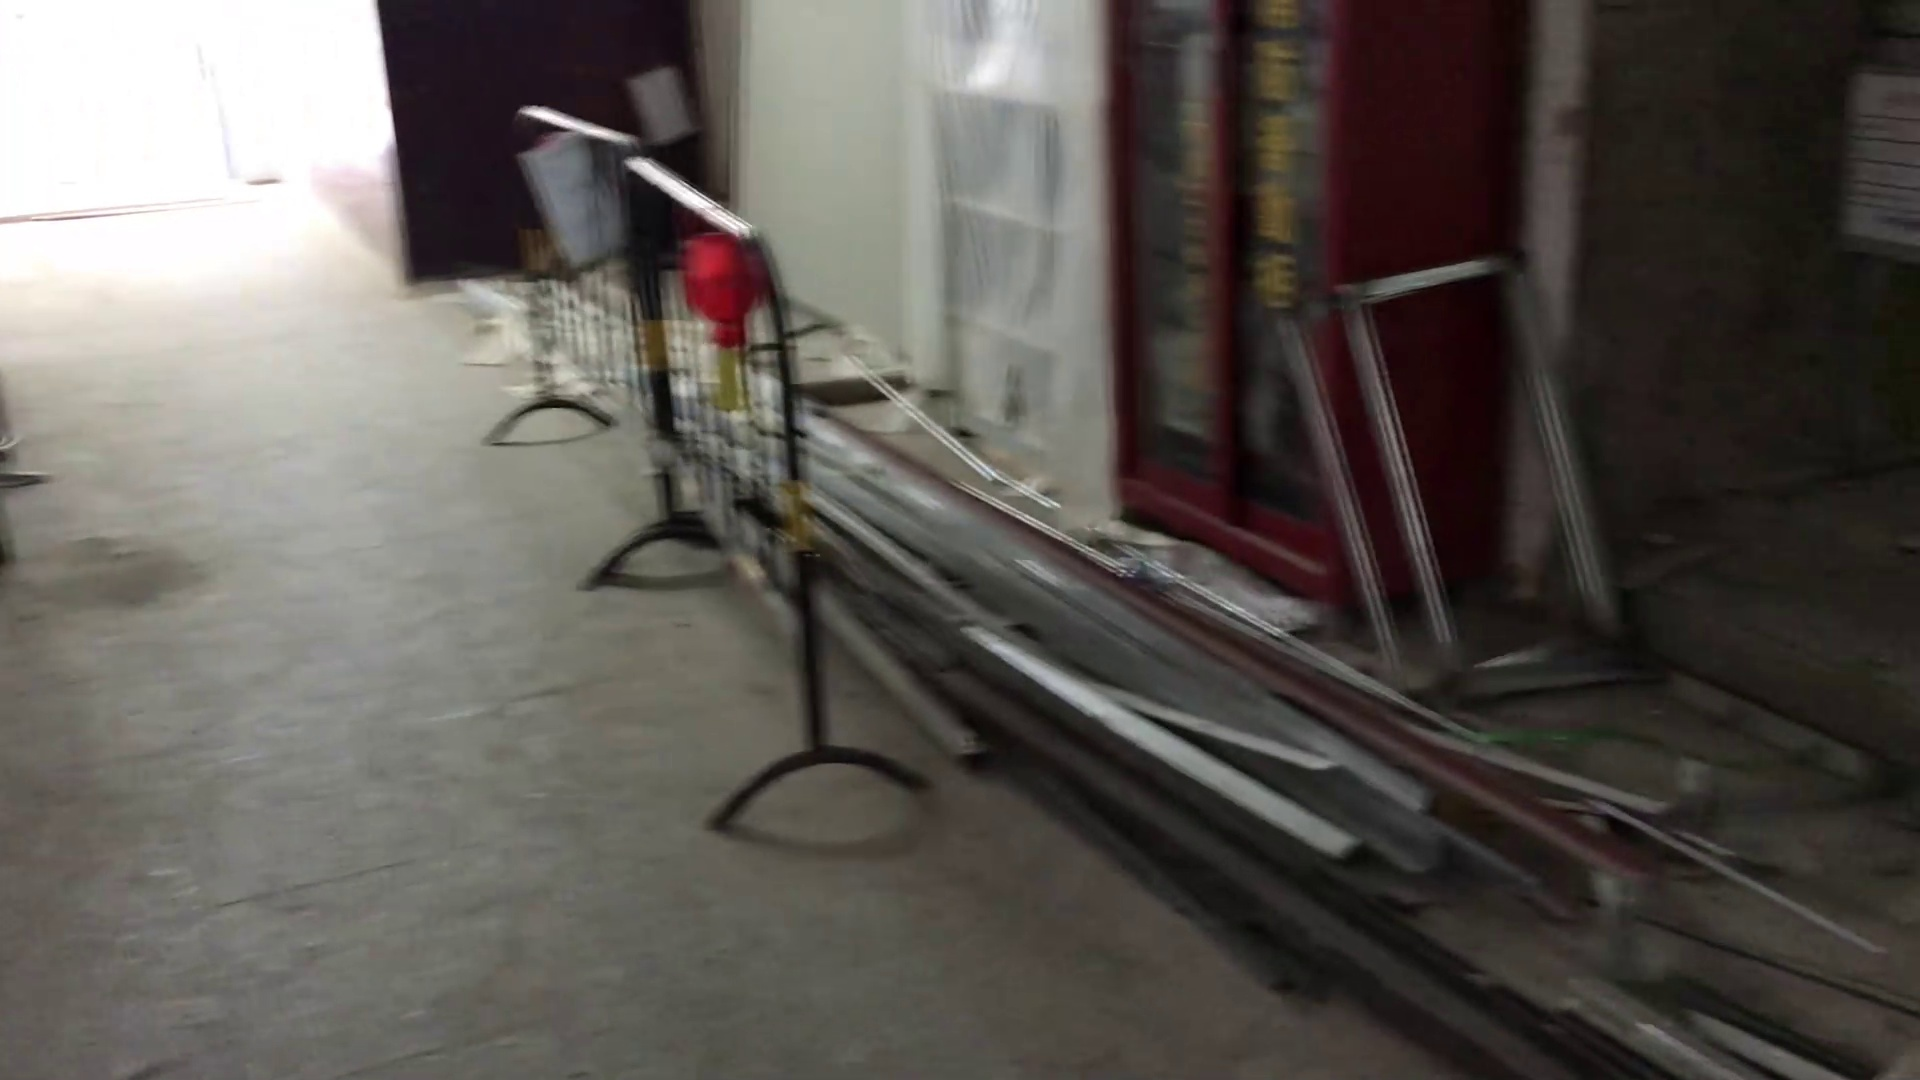fence: (485, 59, 956, 862)
